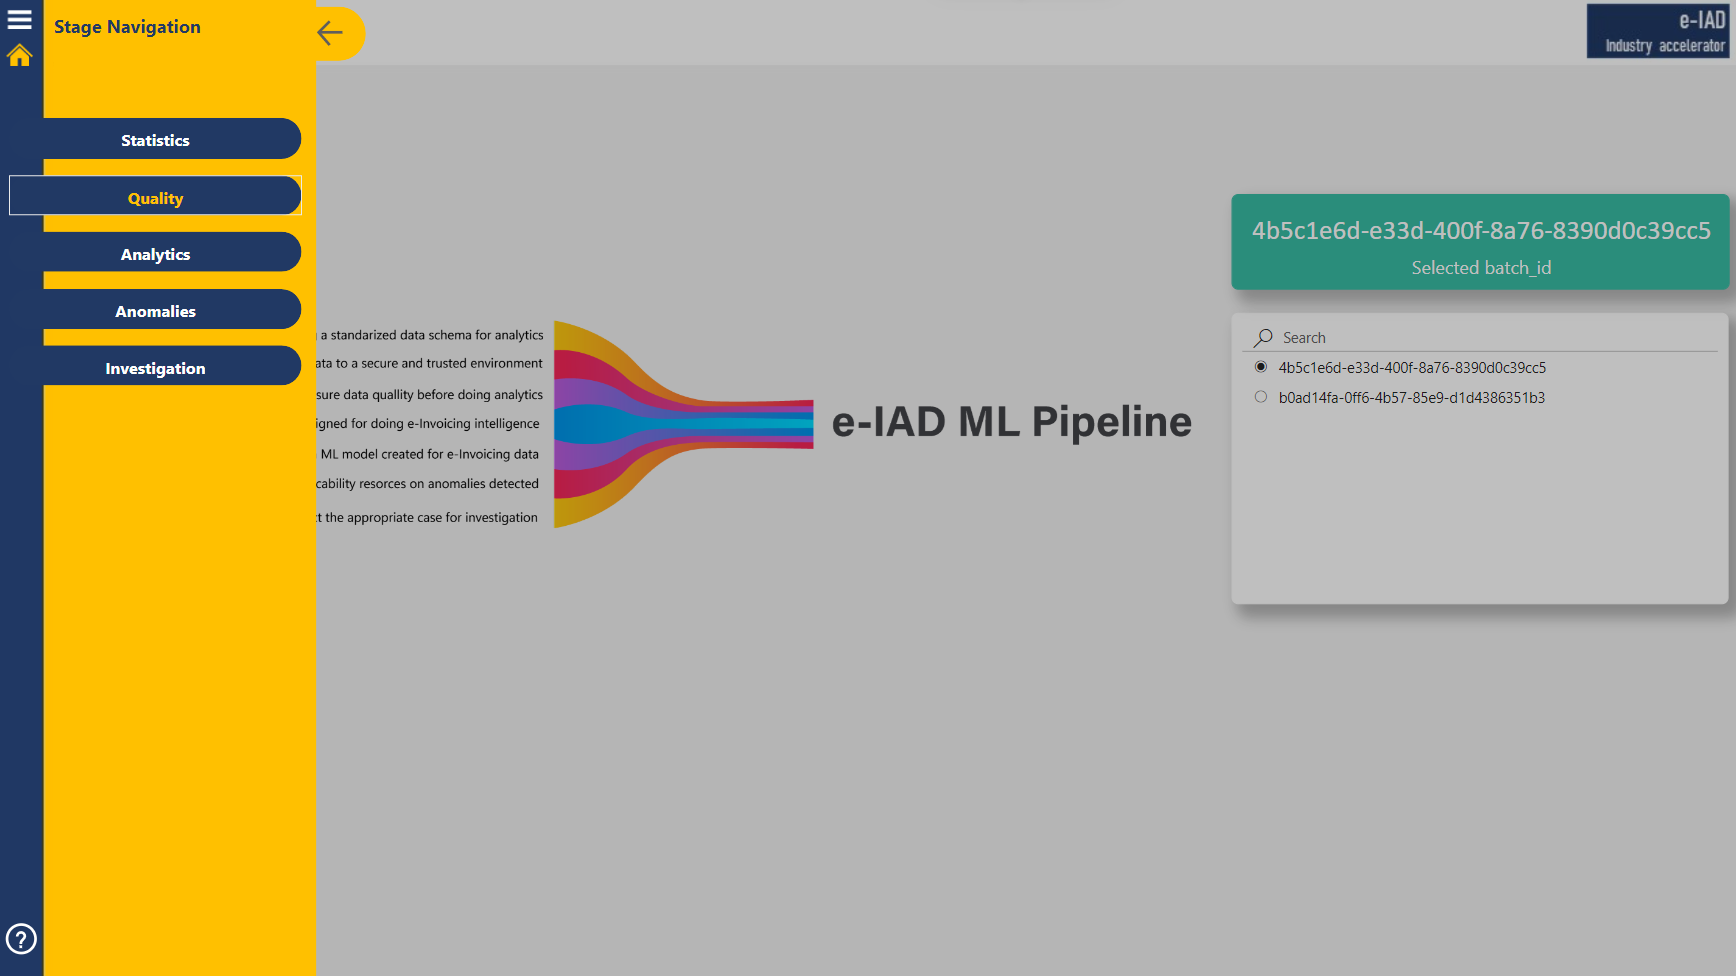

The page's visual inventory and layout, read from the dashboard file:
{"tool":"powerbi","page":{"name":"e-IAD","canvas":[1280,720],"ordinal":0},"visuals":[{"type":"textbox","title":"page title","box":[46,1,300,48],"z":0,"group":"g1"},{"type":"image","box":[295.7,71,502.7,342.5],"z":0},{"type":"actionButton","title":"help","box":[0,675.2,33,33],"z":0,"group":"g2"},{"type":"actionButton","title":"home","box":[0,25.4,30,30],"z":1000,"group":"g2"},{"type":"shape","box":[70.4,303,198.6,49.3],"z":1000},{"type":"actionButton","title":"menu","box":[0,0,30,30],"z":2000,"group":"g2"},{"type":"image","box":[510.6,352.4,307,307],"z":2000},{"type":"shape","box":[70,138,198.6,49.3],"z":3000},{"type":"image","box":[74.9,130.6,65.1,65],"z":4000},{"type":"image","box":[51.7,367.6,243.9,246.4],"z":5000},{"type":"shape","box":[70,218.3,198.6,49.3],"z":6000},{"type":"textbox","box":[131.6,218.2,126.7,48.3],"z":7000},{"type":"shape","box":[617.5,187.8,20.2,20.2],"z":8000},{"type":"shape","box":[280.4,232.1,20.2,20.2],"z":9000},{"type":"shape","box":[280.4,151.8,20.2,20.2],"z":10000},{"type":"shape","box":[617.5,282.9,20.2,20.2],"z":11000},{"type":"shape","box":[793.9,233.1,19.7,20.2],"z":12000},{"type":"image","box":[75.3,295.1,65.1,65.1],"z":13000},{"type":"textbox","box":[133.5,311.4,126.7,32],"z":14000},{"type":"shape","box":[280.9,317.4,19.7,20.2],"z":15000},{"type":"image","box":[552.9,275.5,149.8,149.8],"z":16000},{"type":"image","box":[793.9,172.5,149.8,149.8],"z":17000},{"type":"image","box":[552.9,60.6,149.8,149.8],"z":18000},{"type":"textbox","box":[133.1,138,126.7,48.3],"z":19000},{"type":"image","box":[74.9,210.4,65.1,65.1],"z":20000},{"type":"textbox","box":[290.8,223.7,223.7,38.9],"z":21000},{"type":"slicer","fields":{"Values":["batch_status.batch_id"]},"box":[925.8,146.6,251.8,426.1],"z":22000},{"type":"card","fields":{"Values":["Min(batch_status.batch_id)"]},"box":[925.6,58.8,252.3,70.5],"z":23000},{"type":"group","id":"g1","title":"widgets","box":[46,1,300,48],"z":26000},{"type":"group","id":"g2","title":"menu bar","box":[0,0,33,708.1],"z":28000}]}

Visuals, with their boxes in screenshot pixels (x1, y1, x2, y2), scaled from the page's 1280x720 canvas onto the 1736x976 screenshot:
"page title" textbox: bbox=(62, 1, 469, 66)
image: bbox=(401, 96, 1083, 561)
"help" actionButton: bbox=(0, 915, 45, 960)
"home" actionButton: bbox=(0, 34, 41, 75)
shape: bbox=(95, 411, 365, 478)
"menu" actionButton: bbox=(0, 0, 41, 41)
image: bbox=(693, 478, 1109, 894)
shape: bbox=(95, 187, 364, 254)
image: bbox=(102, 177, 190, 265)
image: bbox=(70, 498, 401, 832)
shape: bbox=(95, 296, 364, 363)
textbox: bbox=(178, 296, 350, 361)
shape: bbox=(837, 255, 865, 282)
shape: bbox=(380, 315, 408, 342)
shape: bbox=(380, 206, 408, 233)
shape: bbox=(837, 383, 865, 411)
shape: bbox=(1077, 316, 1103, 343)
image: bbox=(102, 400, 190, 488)
textbox: bbox=(181, 422, 353, 465)
shape: bbox=(381, 430, 408, 458)
image: bbox=(750, 373, 953, 577)
image: bbox=(1077, 234, 1280, 437)
image: bbox=(750, 82, 953, 285)
textbox: bbox=(181, 187, 352, 253)
image: bbox=(102, 285, 190, 373)
textbox: bbox=(394, 303, 698, 356)
slicer - batch_status.batch_id: bbox=(1256, 199, 1597, 776)
card - Min(batch_status.batch_id): bbox=(1255, 80, 1598, 175)
"widgets" group: bbox=(62, 1, 469, 66)
"menu bar" group: bbox=(0, 0, 45, 960)
